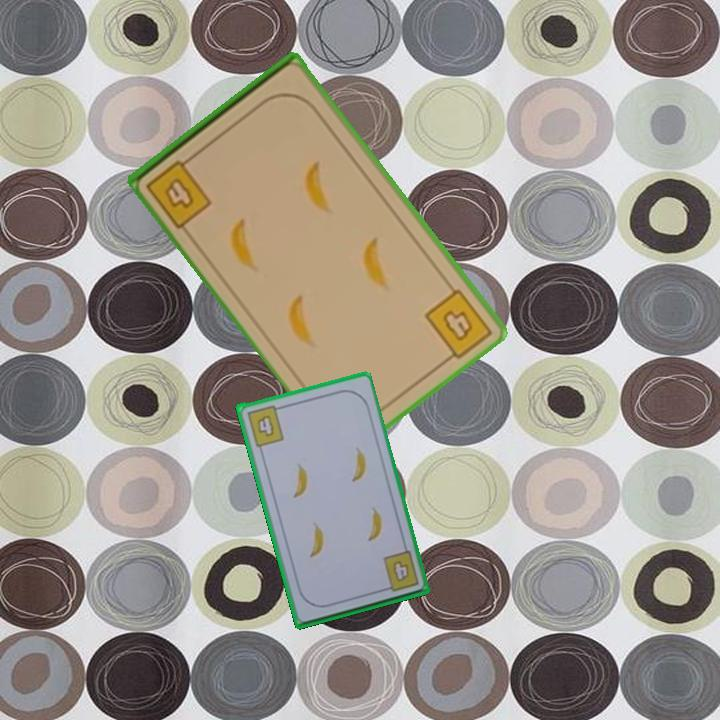4b: (421, 285, 495, 366), (142, 150, 215, 231), (243, 401, 287, 449), (389, 556, 412, 585)
